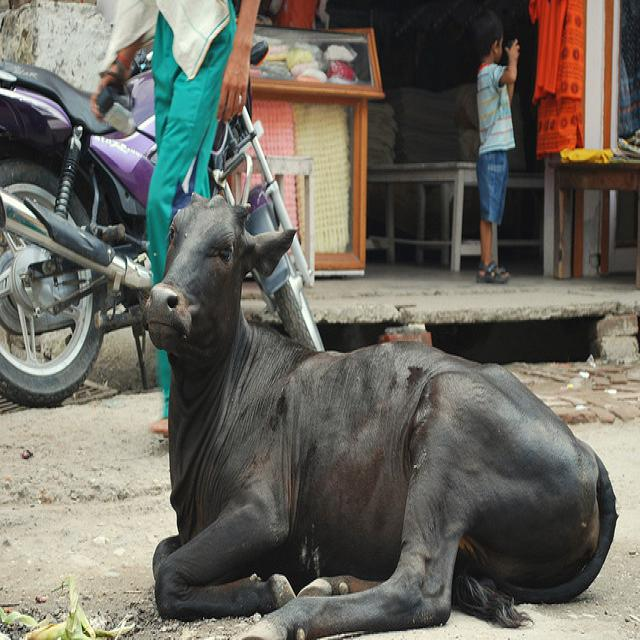motor: (1, 34, 327, 400)
